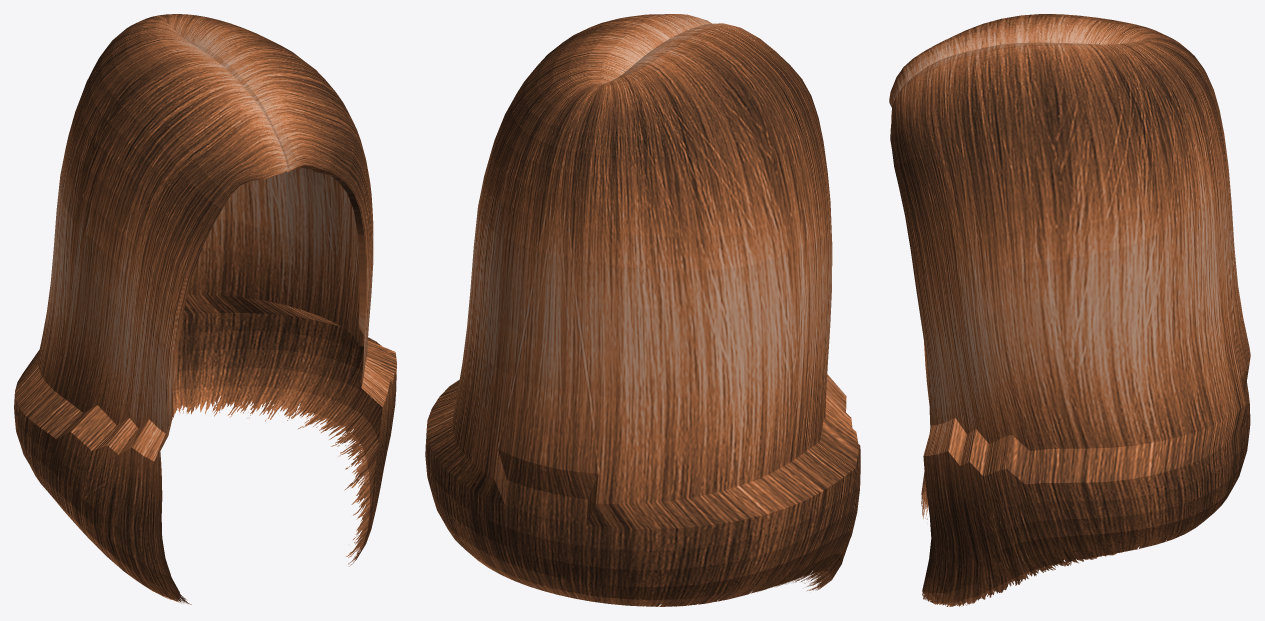
The model's file is feather-mirrorly.obj.
The picture shows the model from 3 angles, left to right: view 1: azimuth 30°, elevation 25°; view 2: azimuth 150°, elevation 25°; view 3: azimuth 270°, elevation 25°; orthographic projection. The views are drawn at different scales.
Bounding box in the file's own units: 2.12 × 2.99 × 1.84.
1 material, 1 textured.
